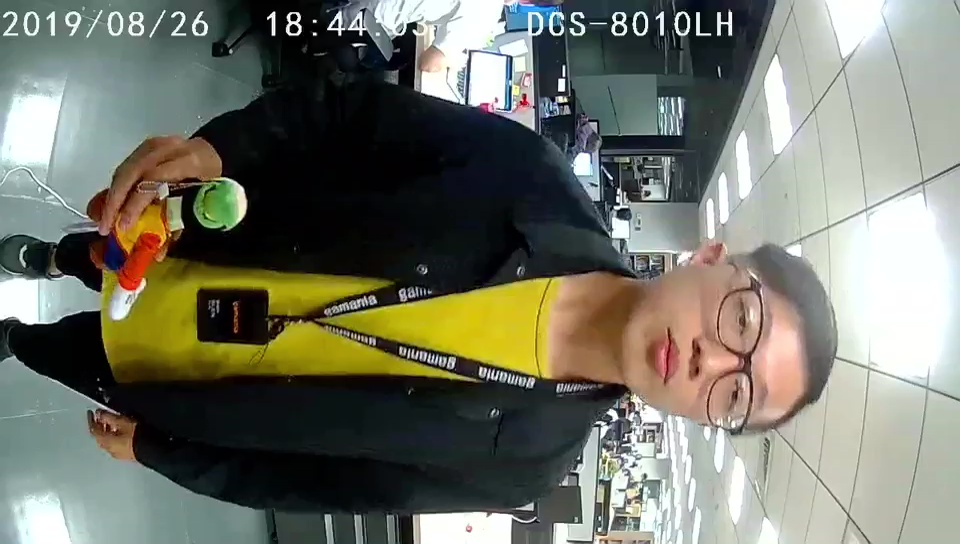goofy: (87, 177, 248, 323)
